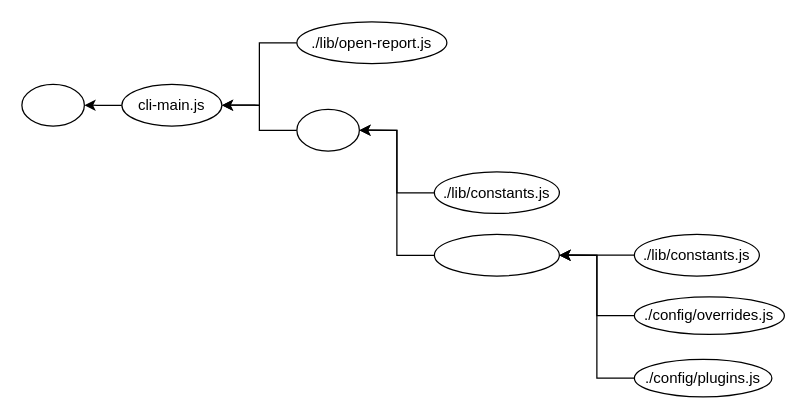
Image size: 806x419. Some labels were removed from this diagram. The centre of each missing label's shape, as x and y in pixels:
./lib/options-manager.js: the point at 496,254
cli.js: the point at 52,104
index.js: the point at 327,129
